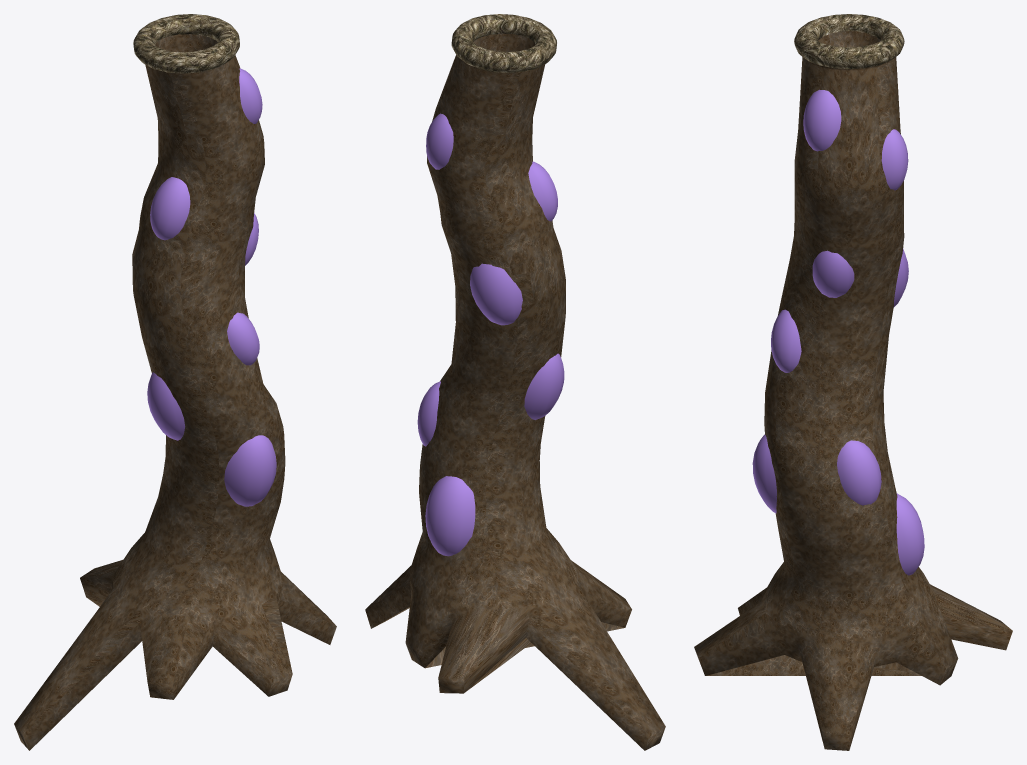
File: TubePlant2.fbx
3 views of the same model, side by side, from view 1: azimuth 30°, elevation 25°; view 2: azimuth 150°, elevation 25°; view 3: azimuth 270°, elevation 25° (orthographic). The views are drawn at different scales.
Visible parts, largest first — view 1: polySurface1, pasted__pasted__pSphere1 (×3), pSphere1, pasted__pSphere1; view 2: polySurface1, pasted__pasted__pSphere1 (×4), pasted__pasted__pasted__pSphere1, pSphere1; view 3: polySurface1, pasted__pasted__pSphere1 (×4), pasted__pSphere1 (×2), pasted__pasted__pasted__pSphere1.
Part boxes in pixels (<box>): polySurface1: <box>14,14,336,750</box>; pasted__pasted__pSphere1 (×3): <box>147,312,276,506</box>; pSphere1: <box>150,177,190,240</box>; pasted__pSphere1: <box>239,68,262,123</box>; polySurface1: <box>365,14,665,750</box>; pasted__pasted__pSphere1 (×4): <box>417,113,564,446</box>; pasted__pasted__pasted__pSphere1: <box>425,476,475,556</box>; pSphere1: <box>528,161,557,221</box>; polySurface1: <box>694,14,1012,750</box>; pasted__pasted__pSphere1 (×4): <box>752,129,908,513</box>; pasted__pSphere1 (×2): <box>803,89,854,297</box>; pasted__pasted__pasted__pSphere1: <box>896,493,924,575</box>.
Size of the model in its own units: 14.44 by 30.89 by 12.77.
8 materials, 3 textured.
